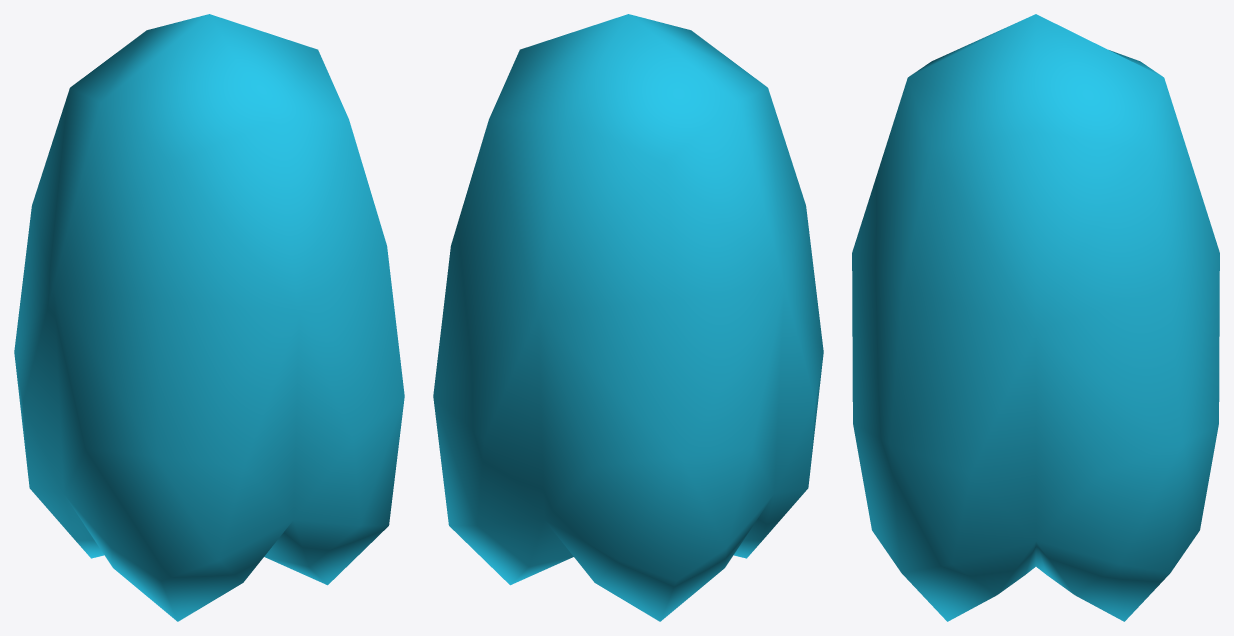
File: Booster.fbx
3 renders of one model, left to right at view 1: azimuth 30°, elevation 25°; view 2: azimuth 150°, elevation 25°; view 3: azimuth 270°, elevation 25°, orthographic. The views are drawn at different scales.
Parts seen in each view (by area): view 1: Booster; view 2: Booster; view 3: Booster.
Part boxes in pixels (bbox=[...]): Booster: bbox=[14, 14, 404, 621]; Booster: bbox=[433, 14, 823, 621]; Booster: bbox=[852, 14, 1219, 621].
Size of the model in its own units: 175 by 299 by 175.
